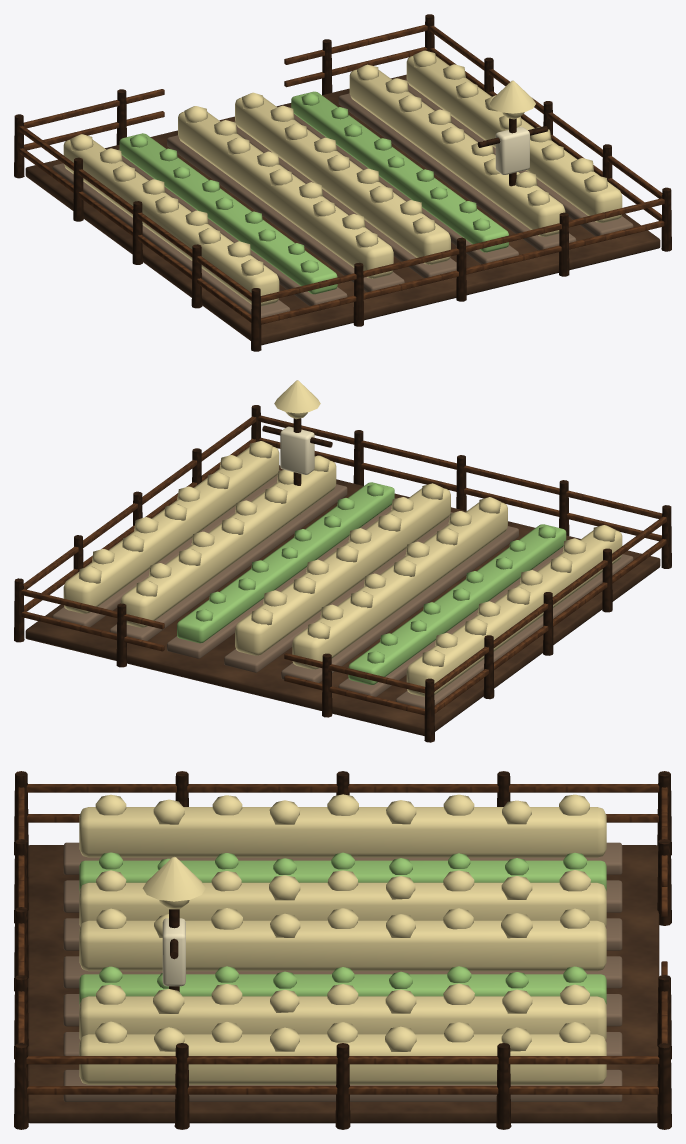
File: building_farm.glb
3 views of the same model, one above another, from view 1: azimuth 30°, elevation 25°; view 2: azimuth 150°, elevation 25°; view 3: azimuth 270°, elevation 25° (orthographic). The views are drawn at different scales.
Visible parts, largest first — view 1: building_farm; view 2: building_farm; view 3: building_farm.
Boxes of the visible parts, bbox=[...] form: building_farm: bbox=[14, 14, 671, 351]; building_farm: bbox=[14, 380, 671, 742]; building_farm: bbox=[14, 771, 671, 1129].
Bounding box in the file's own units: 6.24 × 2.14 × 6.24.
Materials: 7 (3 with a texture image).
